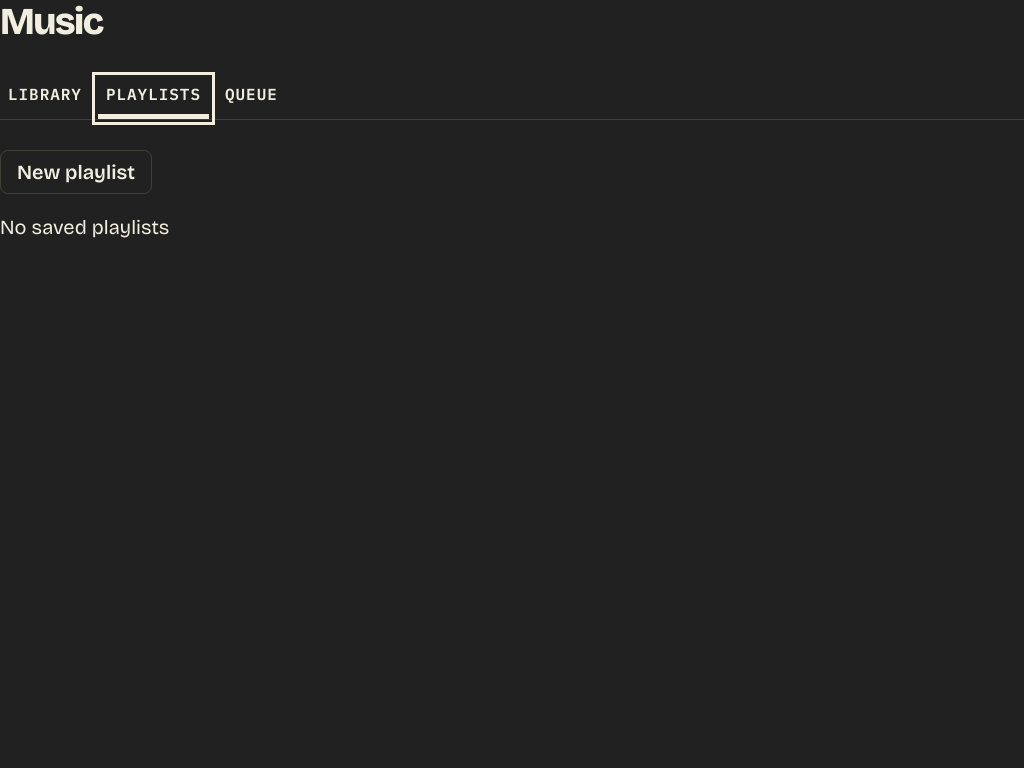
it: starts in Library and confirms dirty playlist closure with Cancel and Discard
Earlier steps of the test are not shown.
Click the button "New playlist".
click(76, 172)  # box [0,150,152,194]
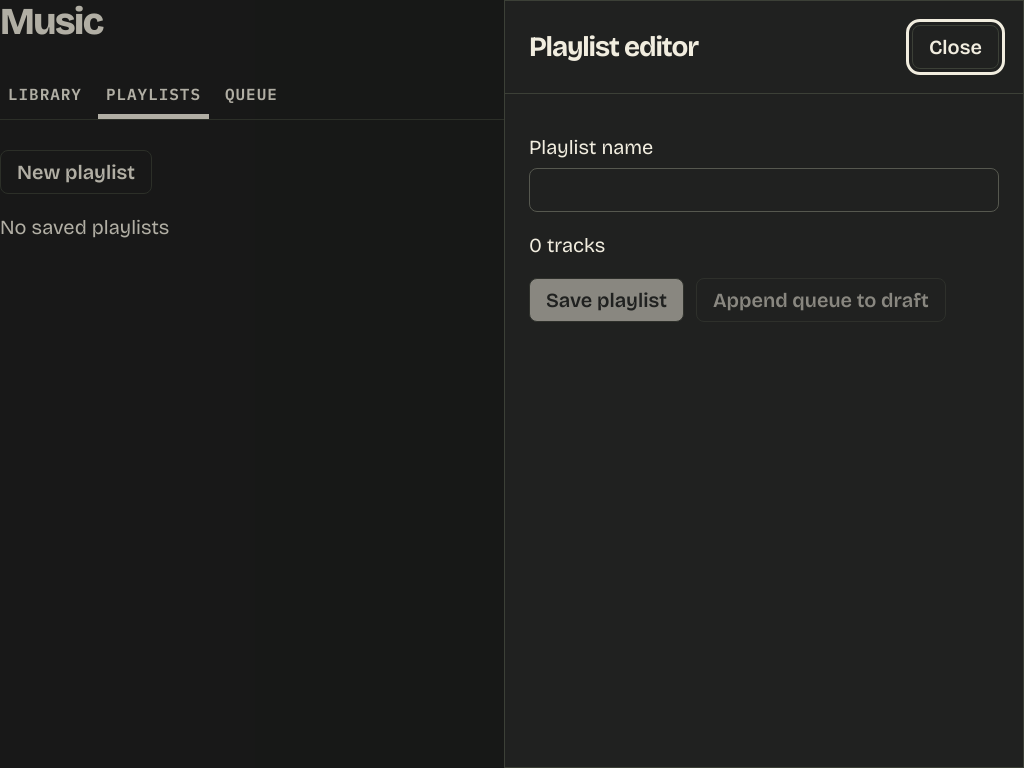
Type "Draft" into the field labelled "Playlist name".
click(764, 190); type("Draft")  # box [529,168,999,212]
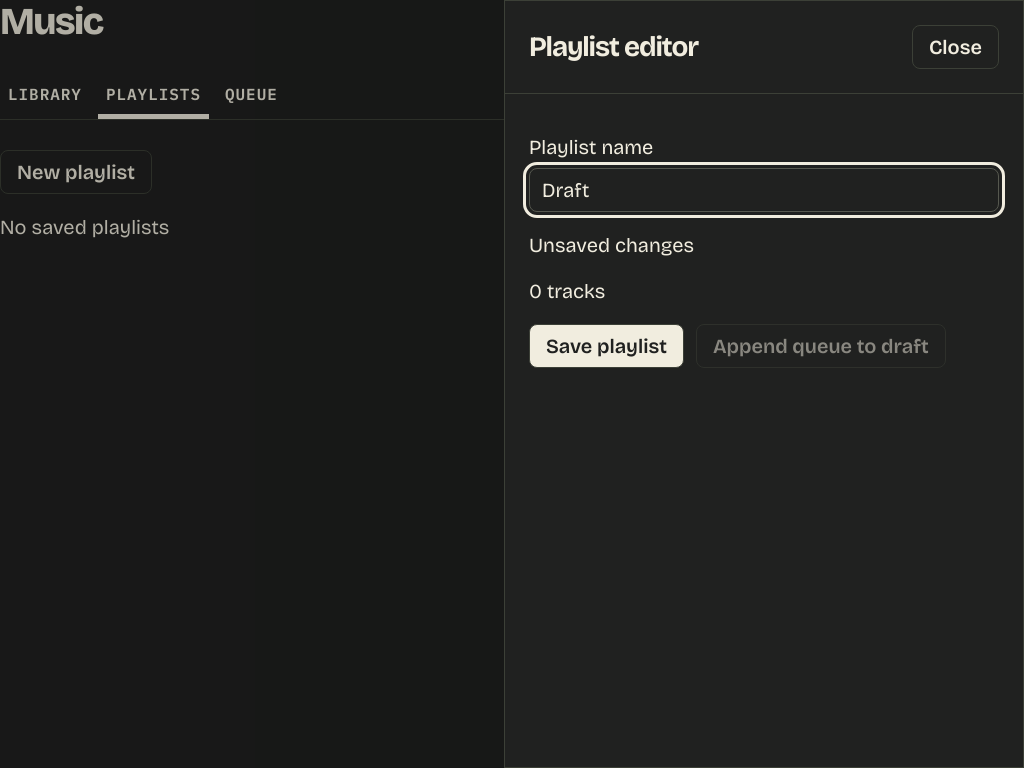
Click the button "Close".
click(955, 47)  # box [912,25,999,69]
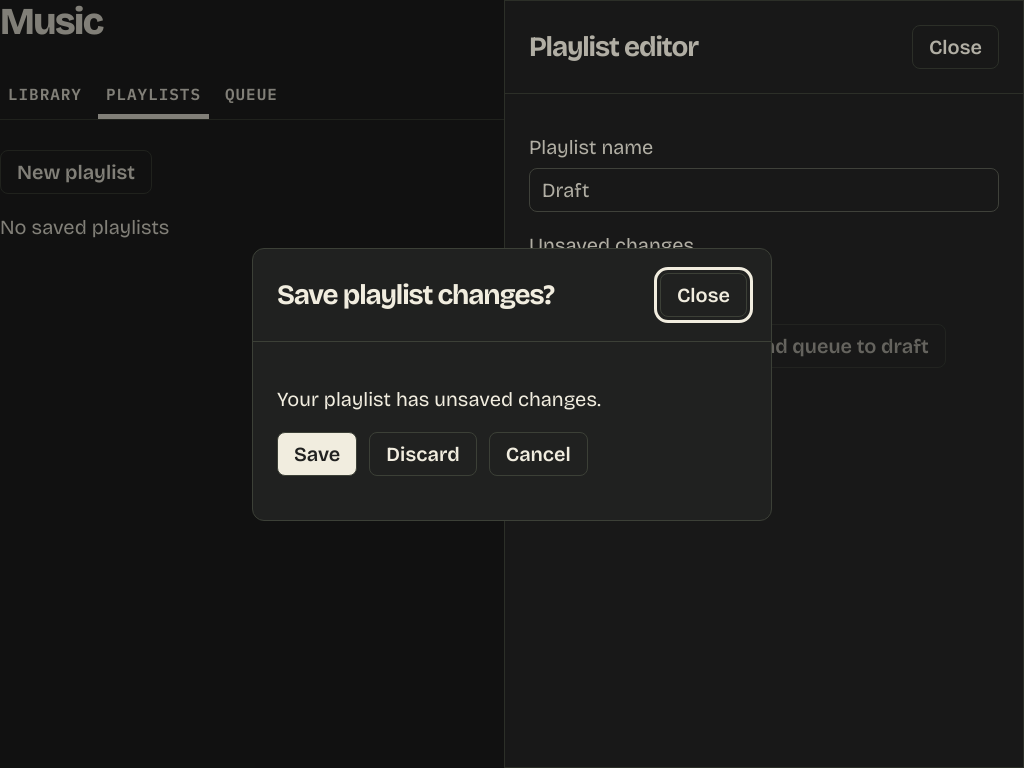
Click the button "Cancel".
click(538, 454)  # box [489,432,588,476]
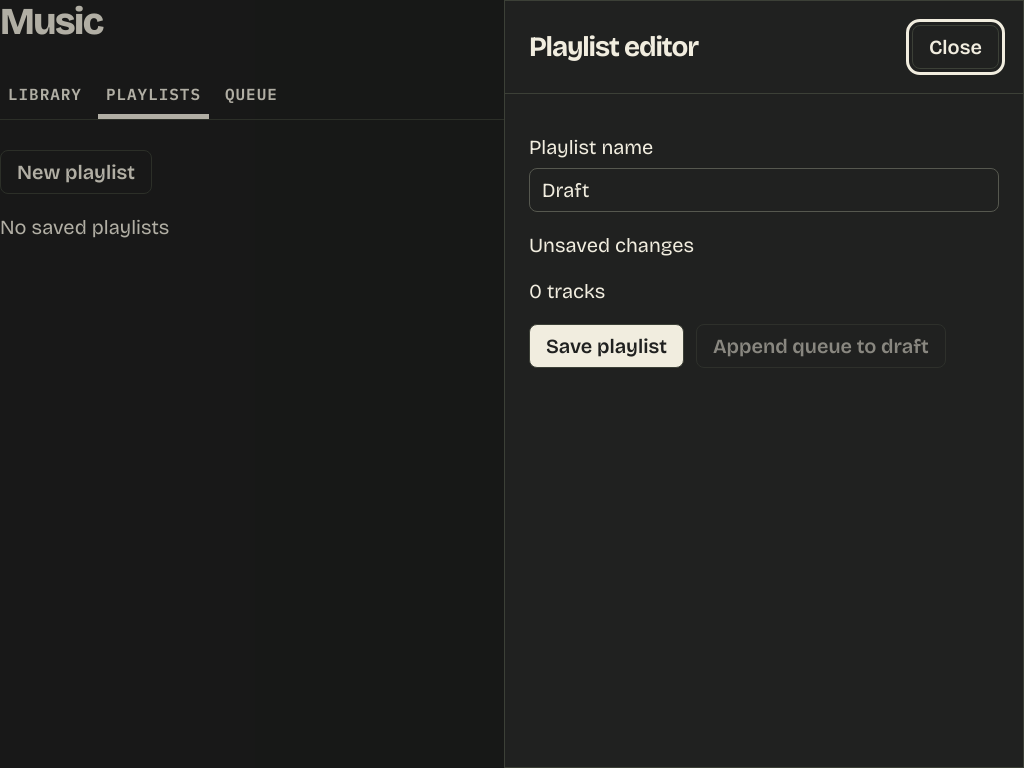
Click the button "Close".
click(955, 47)  # box [912,25,999,69]
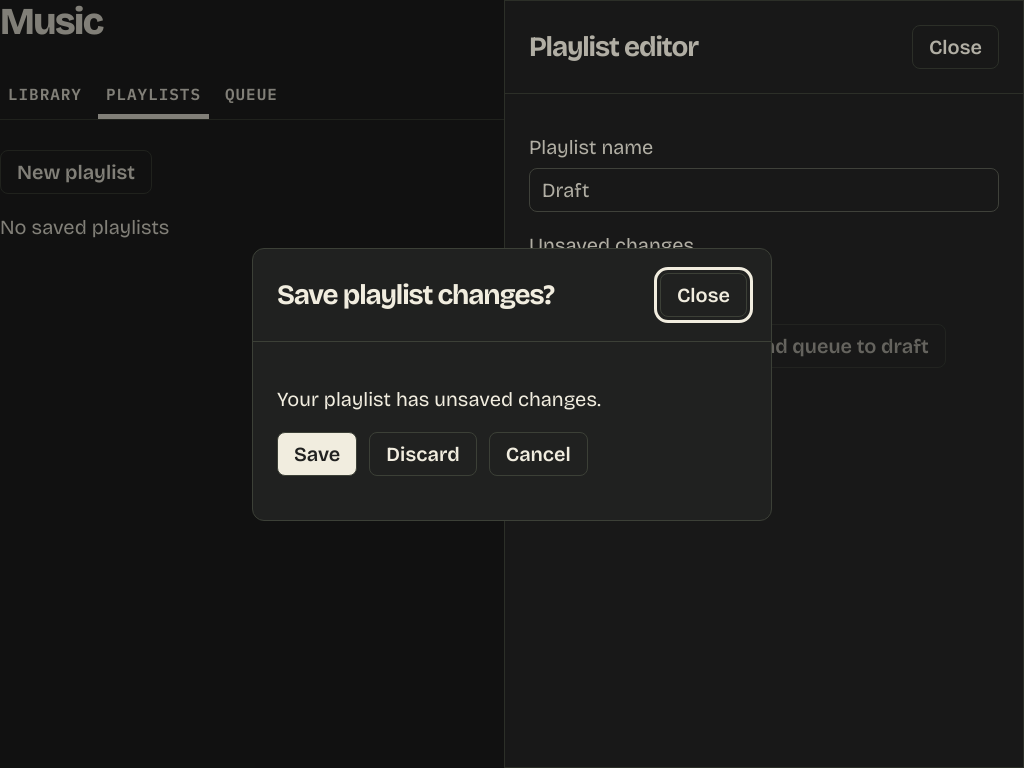
Click the button "Discard".
click(423, 454)  # box [369,432,477,476]
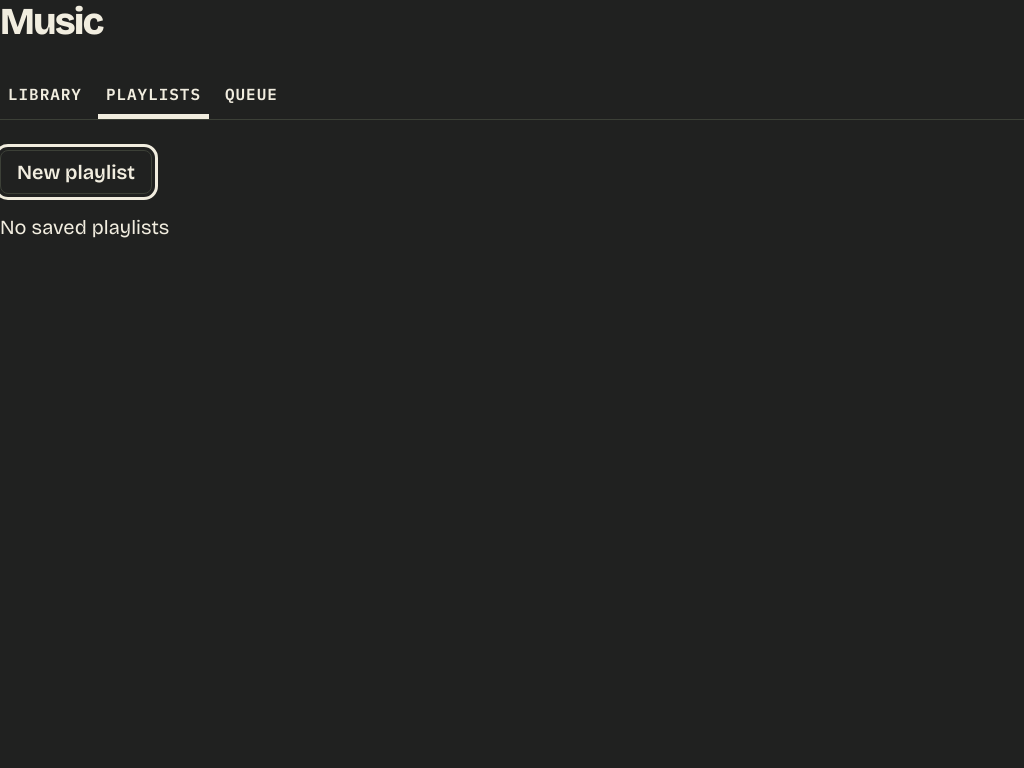
expect the label labelled "Playlist name" is gone: met
